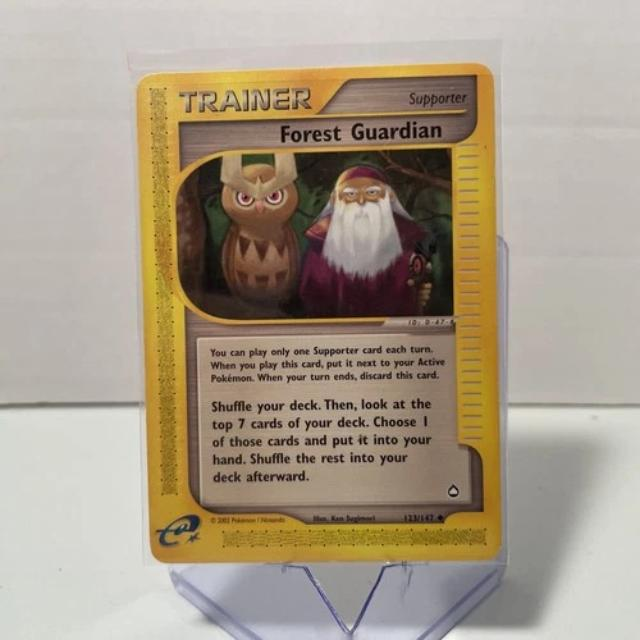Card: (131, 59, 507, 569)
Name: (274, 115, 447, 147)
